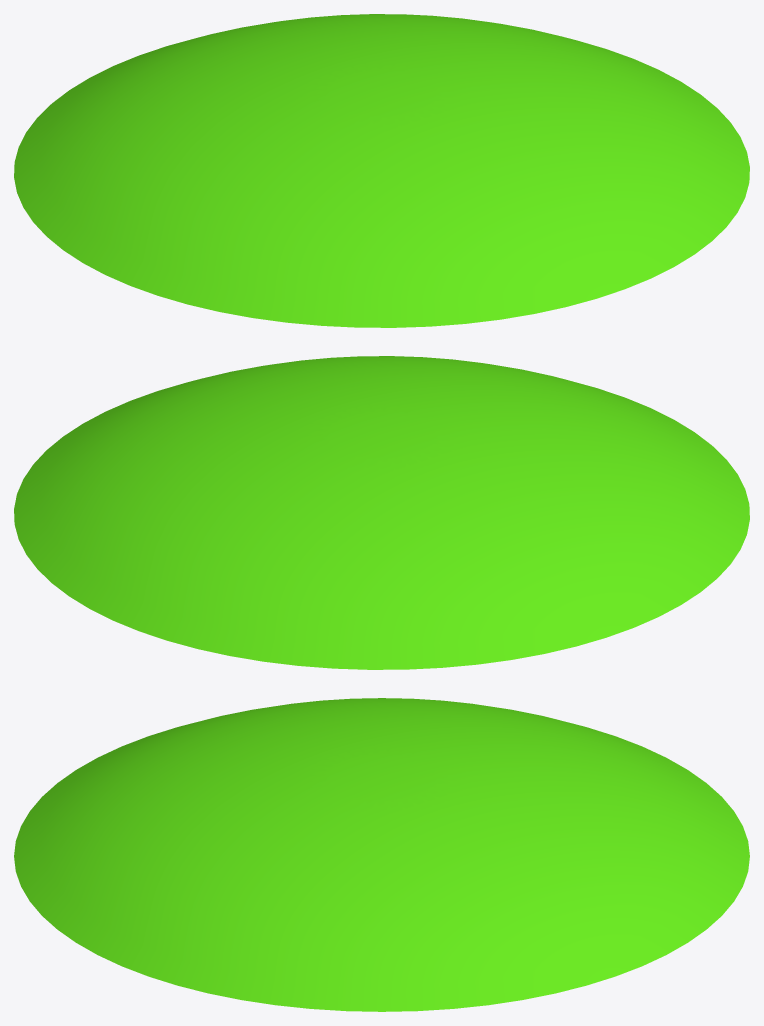
The model's file is Arc.glb.
3 views of the same model, one above another, from view 1: azimuth 30°, elevation 25°; view 2: azimuth 150°, elevation 25°; view 3: azimuth 270°, elevation 25° (orthographic).
Parts seen in each view (by area): view 1: Arc_Level 1; view 2: Arc_Level 1; view 3: Arc_Level 1.
Part boxes in pixels (x1,y1,x2,y2): Arc_Level 1: (14, 14, 749, 327); Arc_Level 1: (14, 356, 749, 669); Arc_Level 1: (14, 698, 749, 1011).
Size of what is drawn, in the model's own units: 14.34 by 1.74 by 14.34.
